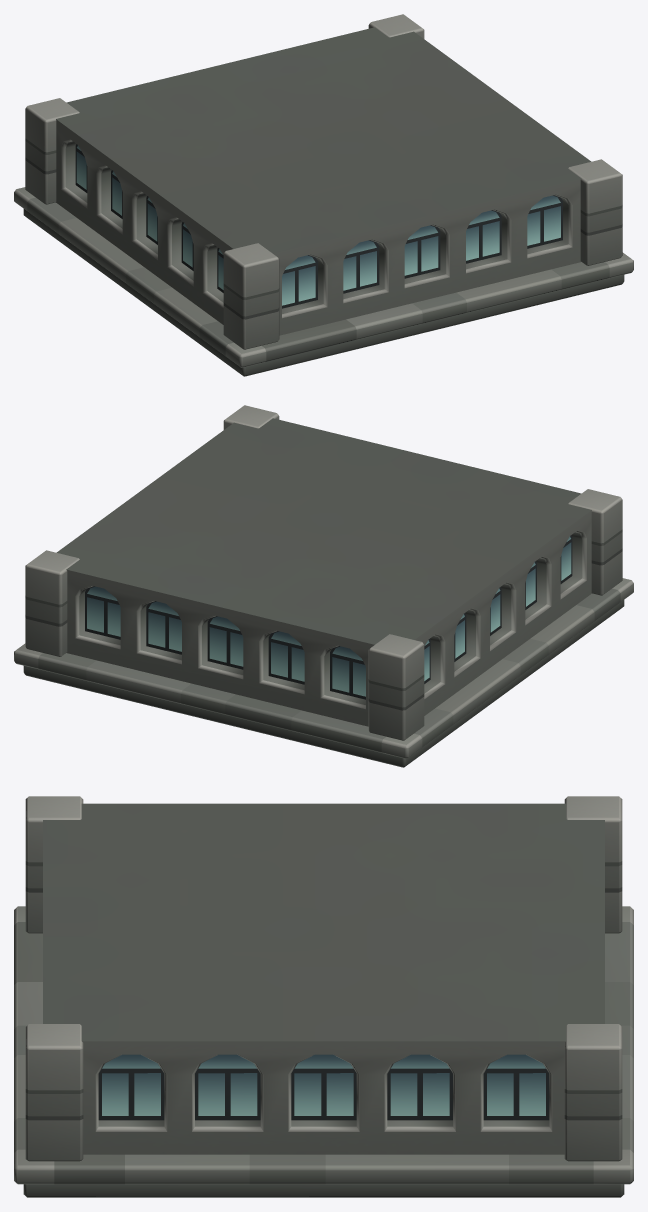
File: office_building_type1_single_floor1_grey.fbx
3 renders of one model, top to bottom at view 1: azimuth 30°, elevation 25°; view 2: azimuth 150°, elevation 25°; view 3: azimuth 270°, elevation 25°, orthographic. The views are drawn at different scales.
Parts seen in each view (by area): view 1: office_building_type1_single_floor1_grey; view 2: office_building_type1_single_floor1_grey; view 3: office_building_type1_single_floor1_grey.
Boxes of the visible parts, x1=… form: office_building_type1_single_floor1_grey: x1=14, y1=14, x2=633, y2=376; office_building_type1_single_floor1_grey: x1=14, y1=405, x2=633, y2=767; office_building_type1_single_floor1_grey: x1=14, y1=796, x2=633, y2=1197.
Bounding box in the file's own units: 1610 × 434 × 1610.
